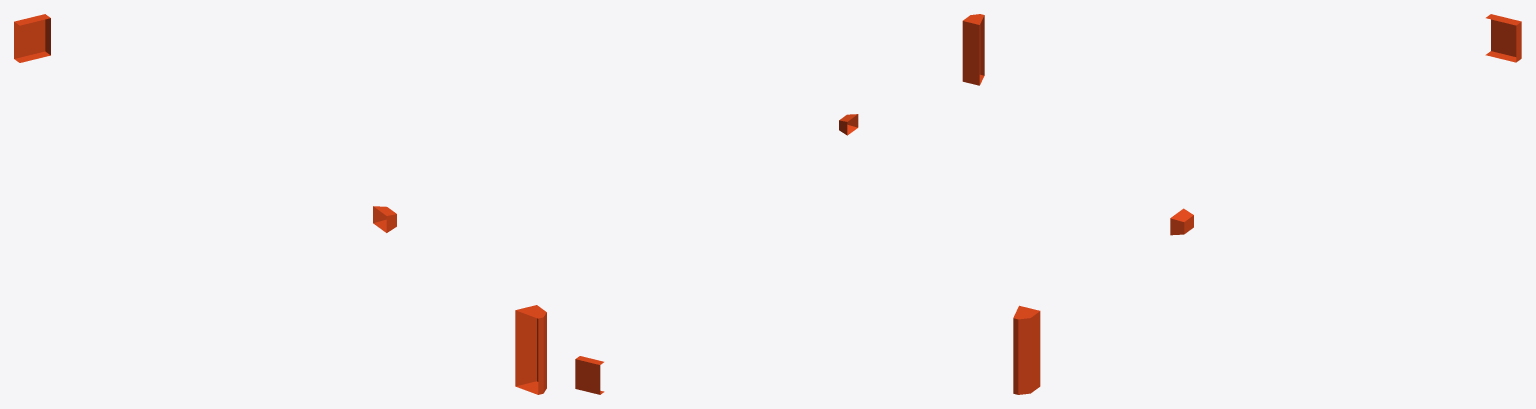
The model's file is Car1TurnSignalsR.fbx.
3 renders of one model, left to right at view 1: azimuth 30°, elevation 25°; view 2: azimuth 150°, elevation 25°; view 3: azimuth 330°, elevation 25°, orthographic. The views are drawn at different scales.
Parts seen in each view (by area): view 1: Car1TurnSignalsR; view 2: Car1TurnSignalsR; view 3: Car1TurnSignalsR.
Part boxes in pixels (x1,y1,x2,y2): Car1TurnSignalsR: (14, 14, 546, 394); Car1TurnSignalsR: (575, 14, 984, 394); Car1TurnSignalsR: (1013, 14, 1521, 394).
Bounding box in the file's own units: 0.1808 × 0.4897 × 4.31.
